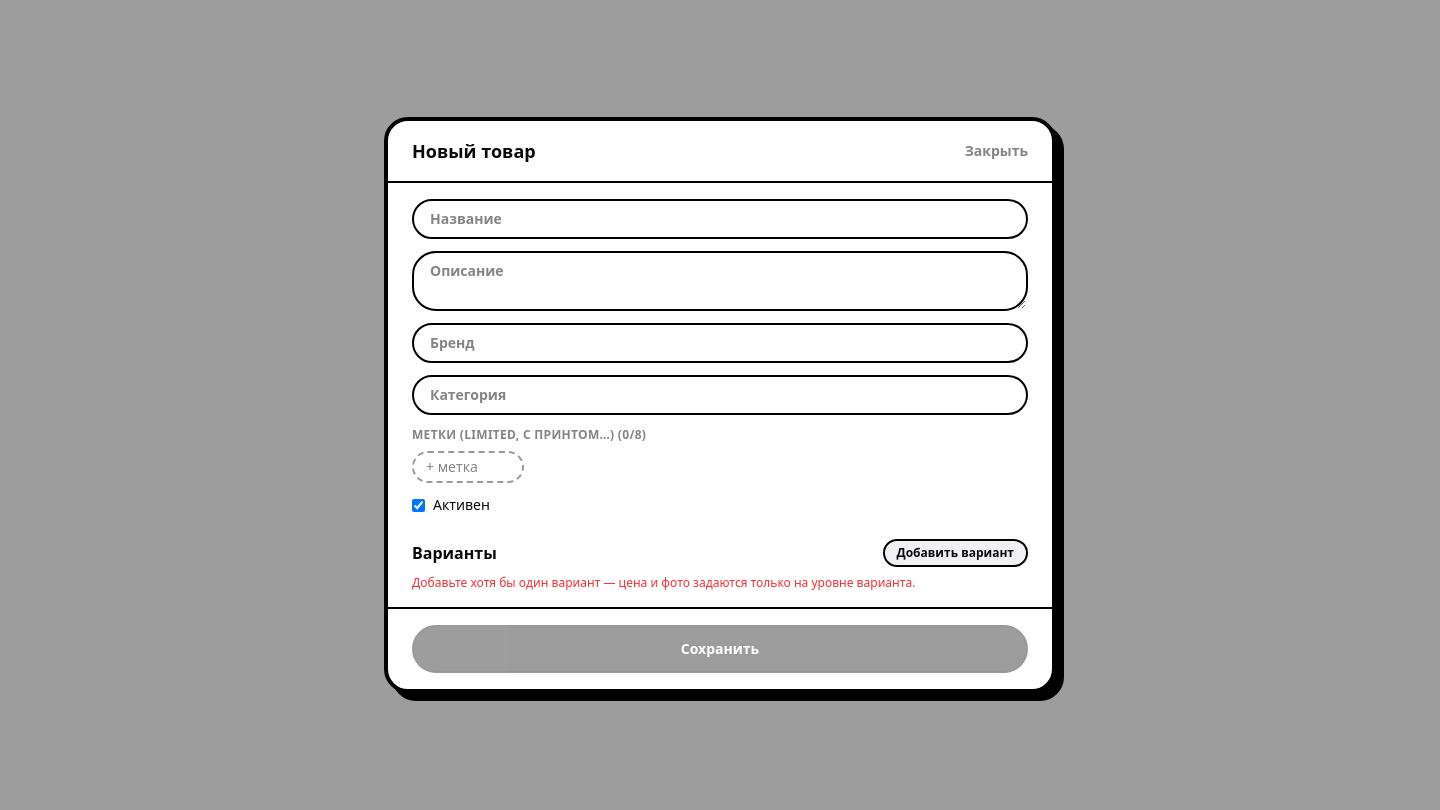
Test: ProductForm › disables submit until name is filled and at least one priced variant exists
Expected: the button "Сохранить" is disabled, x1=412 y1=625 x2=1028 y2=673
Type "New Product" into the field with placeholder "Название".
click(720, 219); type("New Product")  # box x1=412 y1=199 x2=1028 y2=239
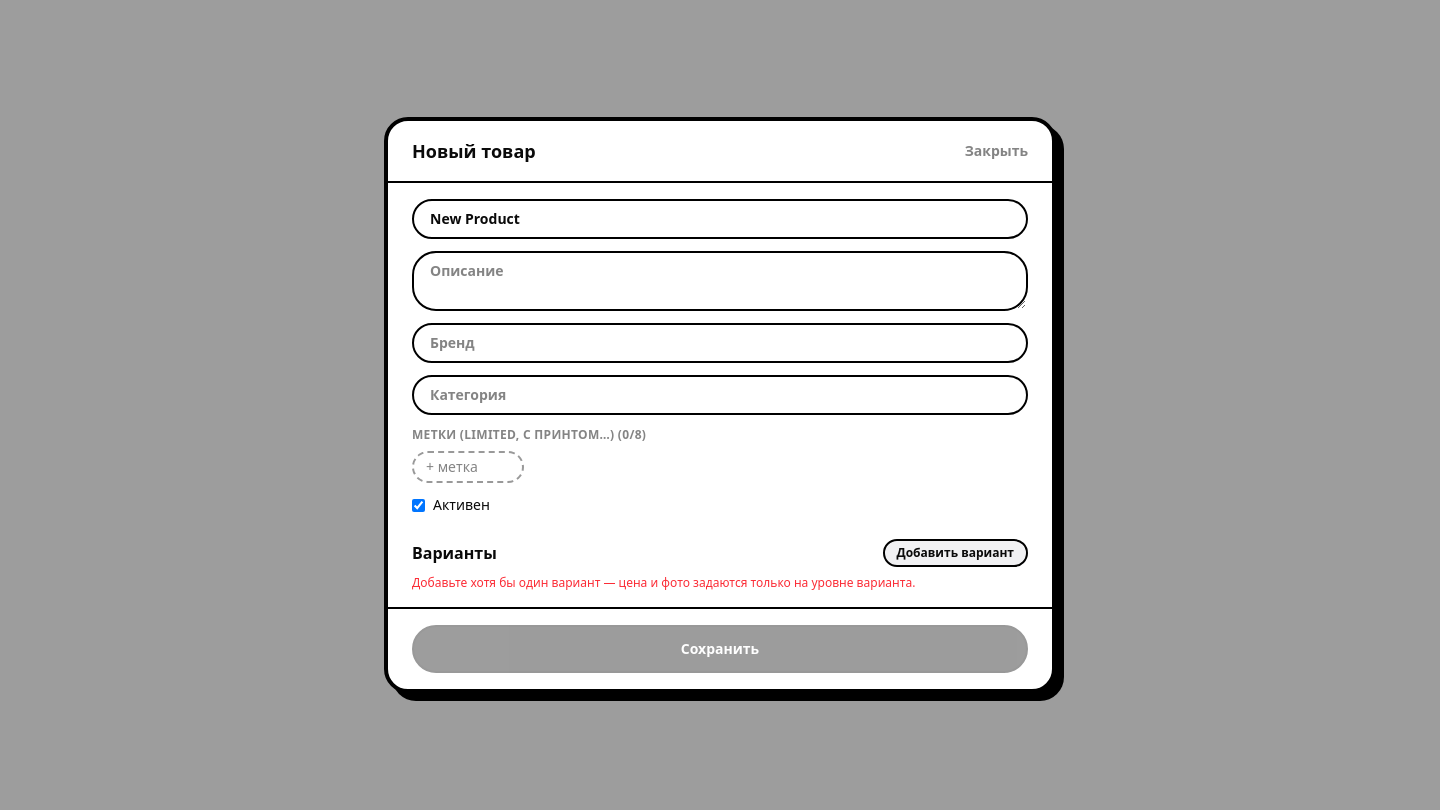
Expected: the button "Сохранить" is disabled, x1=412 y1=625 x2=1028 y2=673
Click the button "Добавить вариант".
click(955, 553)  # box x1=882 y1=539 x2=1028 y2=567
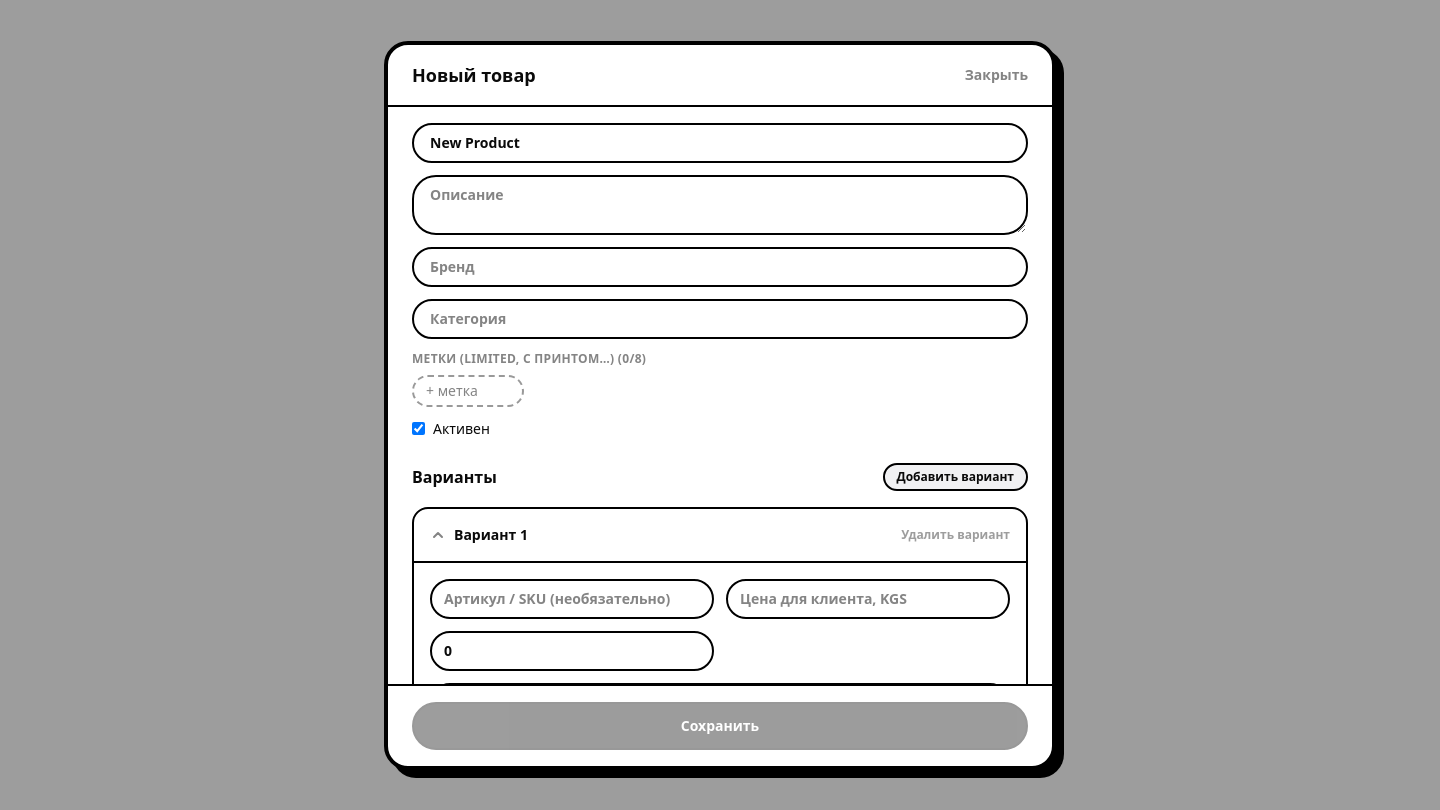
Type "NEW-SKU-1" into the field with placeholder "Артикул / SKU (необязательно)".
click(572, 598); type("NEW-SKU-1")  # box x1=430 y1=578 x2=714 y2=618
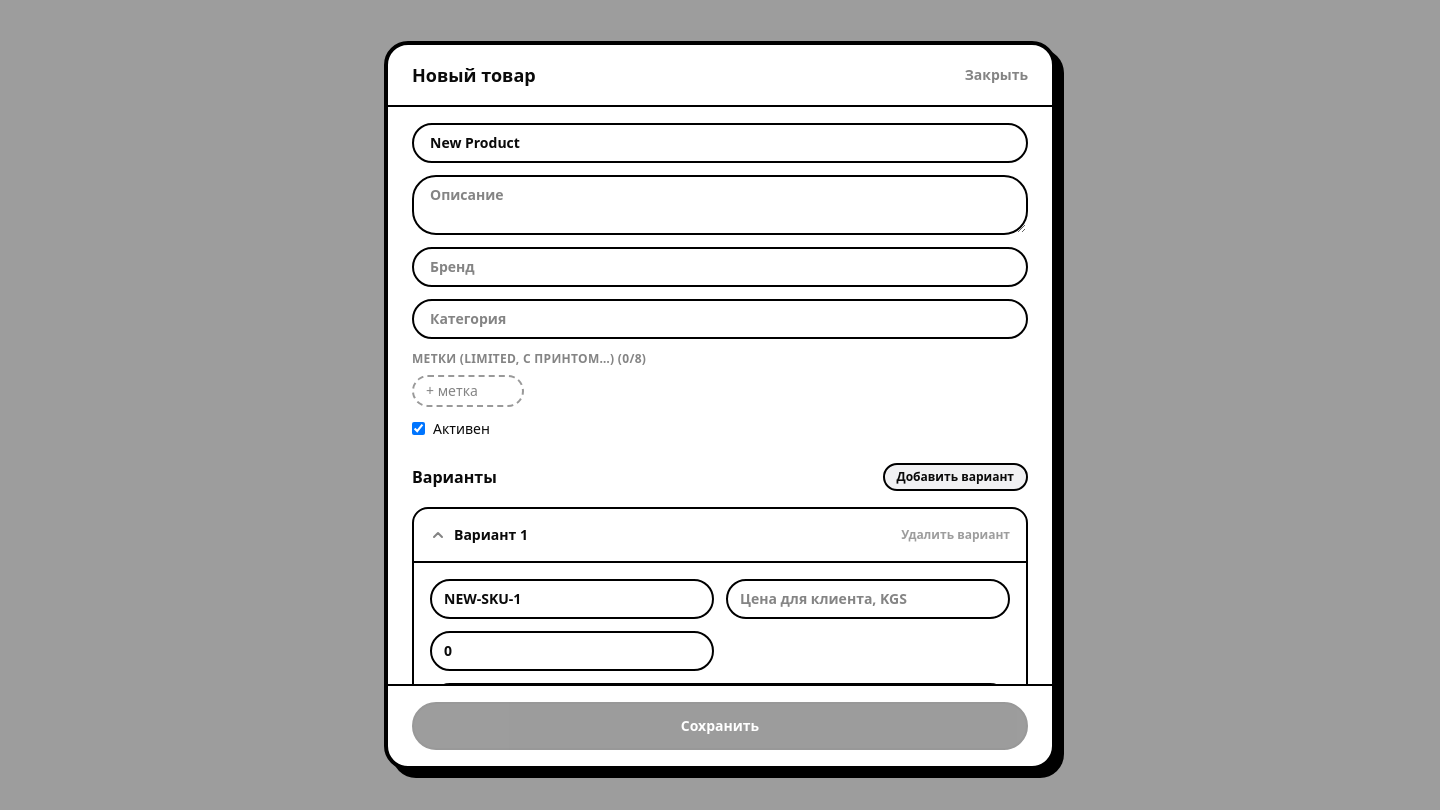
Type "15" into the number field with placeholder "Цена для клиента, KGS".
click(868, 598); type("15")  # box x1=726 y1=578 x2=1010 y2=618
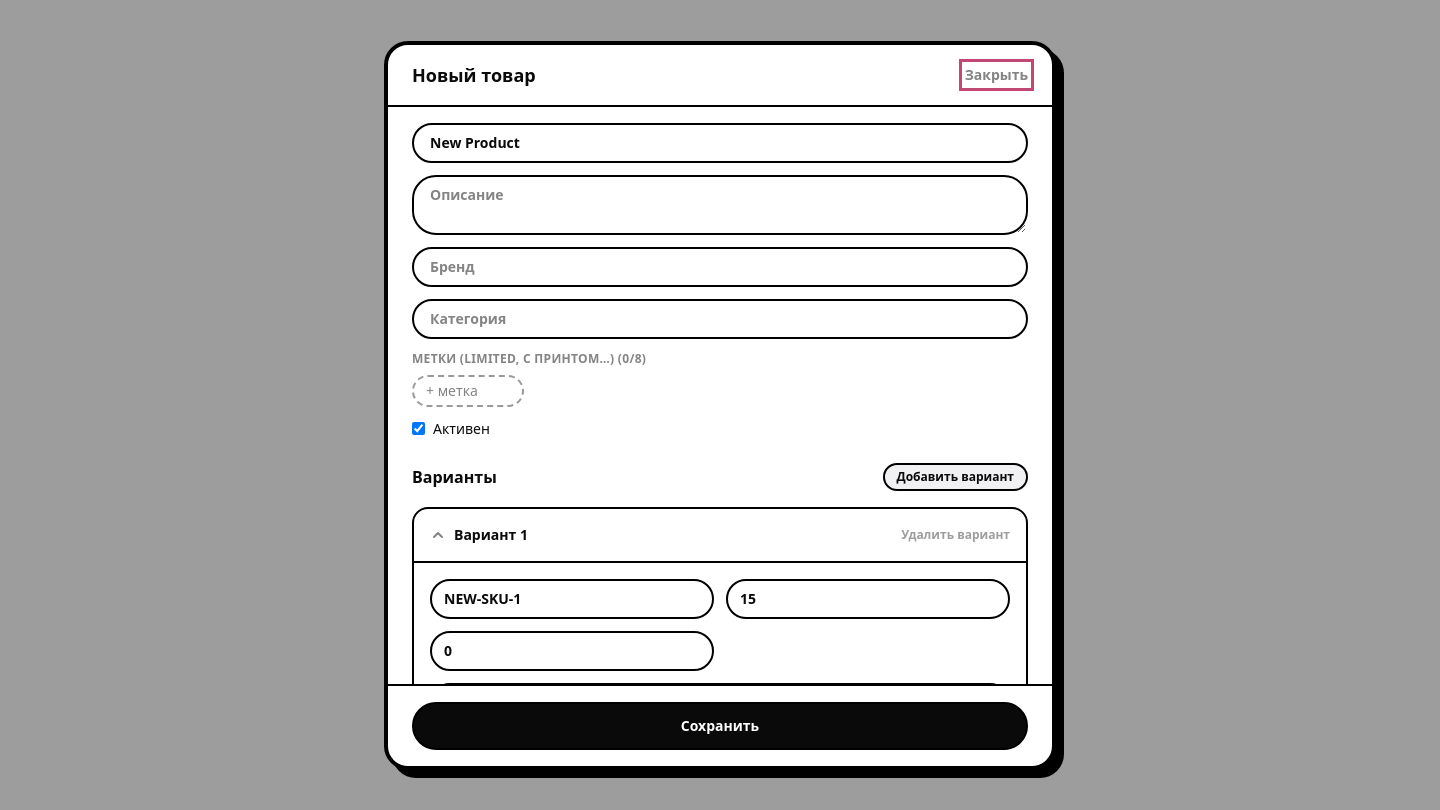
Now the button "Сохранить" is enabled, box x1=412 y1=702 x2=1028 y2=750
